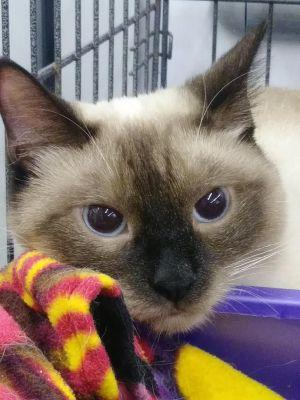siamese: (1, 14, 288, 347)
